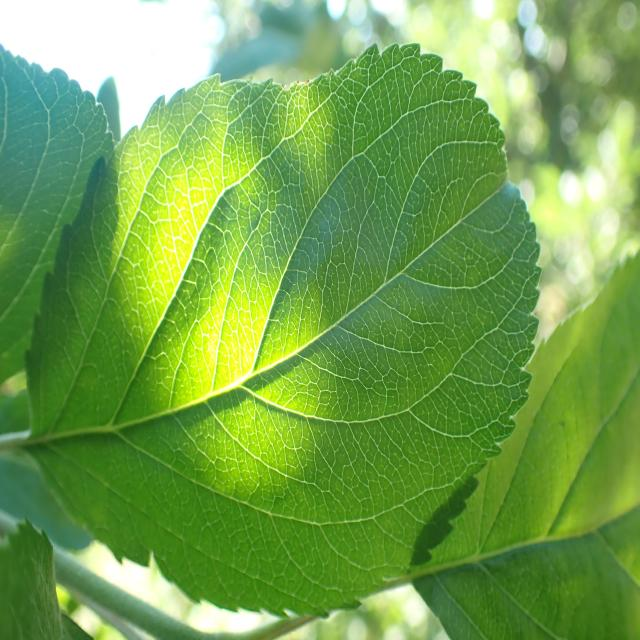healthy: (26, 41, 544, 622), (411, 246, 640, 640), (0, 42, 118, 392)
